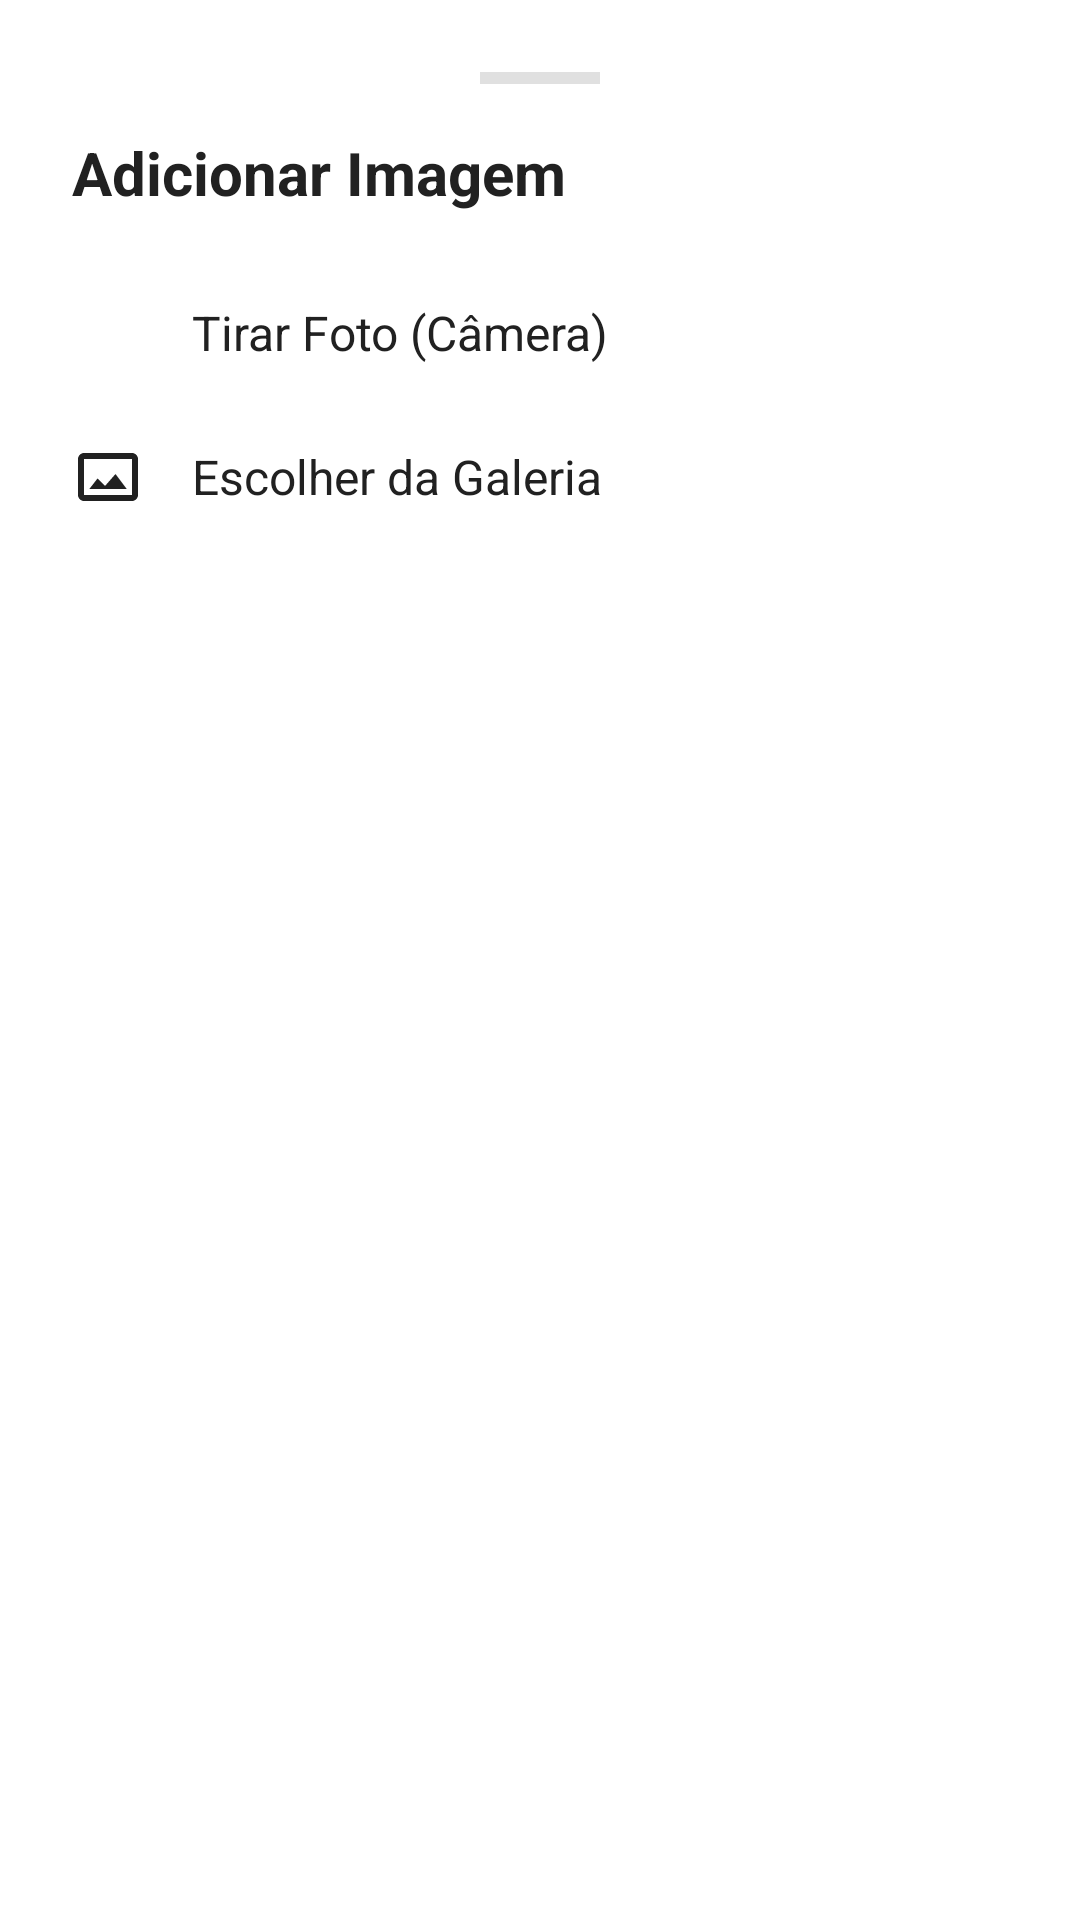

Screen size 1080px×1920px. Icon name, then its center in pixels as point (x, y):
gallery: point (108, 477)
